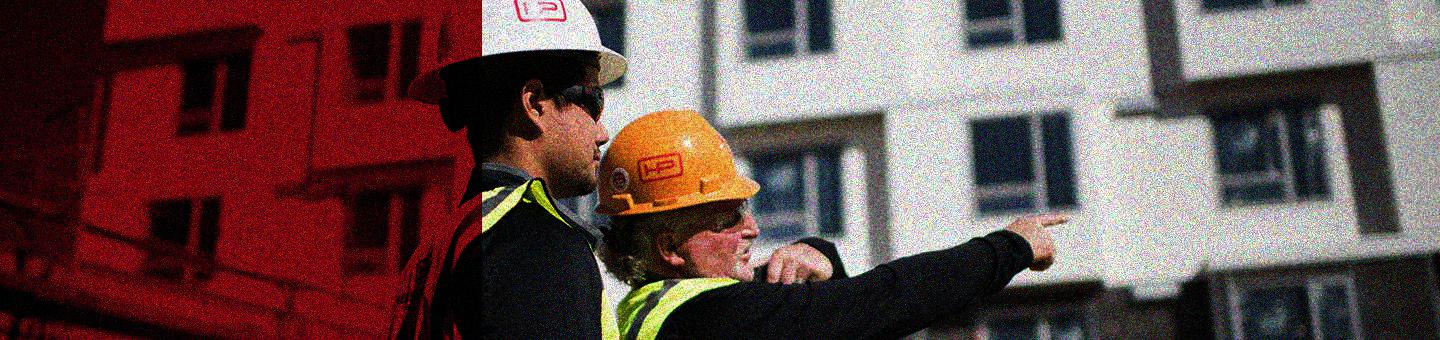helmet: (409, 1, 627, 186), (595, 110, 762, 282)
